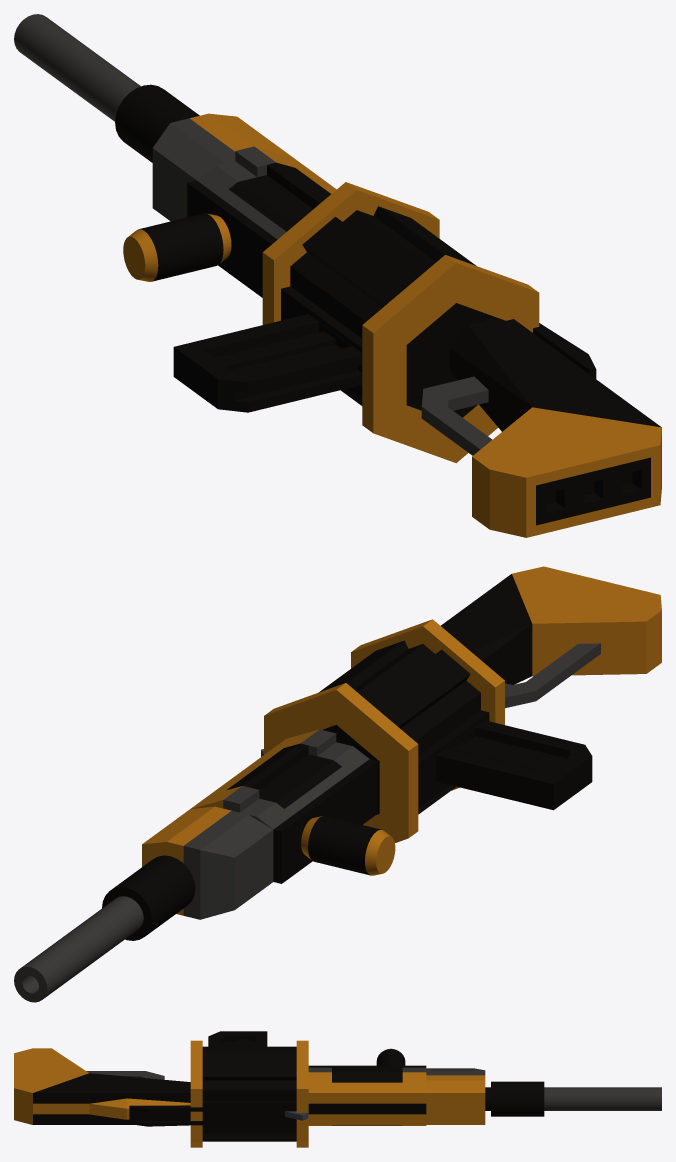
The model's file is MachineGun.glb.
The picture shows the model from 3 angles, top to bottom: view 1: azimuth 30°, elevation 25°; view 2: azimuth 150°, elevation 25°; view 3: azimuth 270°, elevation 25°; orthographic projection. The views are drawn at different scales.
Visible parts, largest first — view 1: mergedBlocks(Clone); view 2: mergedBlocks(Clone); view 3: mergedBlocks(Clone).
Boxes of the visible parts, bbox=[...] form: mergedBlocks(Clone): bbox=[14, 14, 661, 537]; mergedBlocks(Clone): bbox=[14, 566, 661, 1002]; mergedBlocks(Clone): bbox=[14, 1031, 661, 1147].
Size of the model in its own units: 1.58 by 1 by 5.5.
